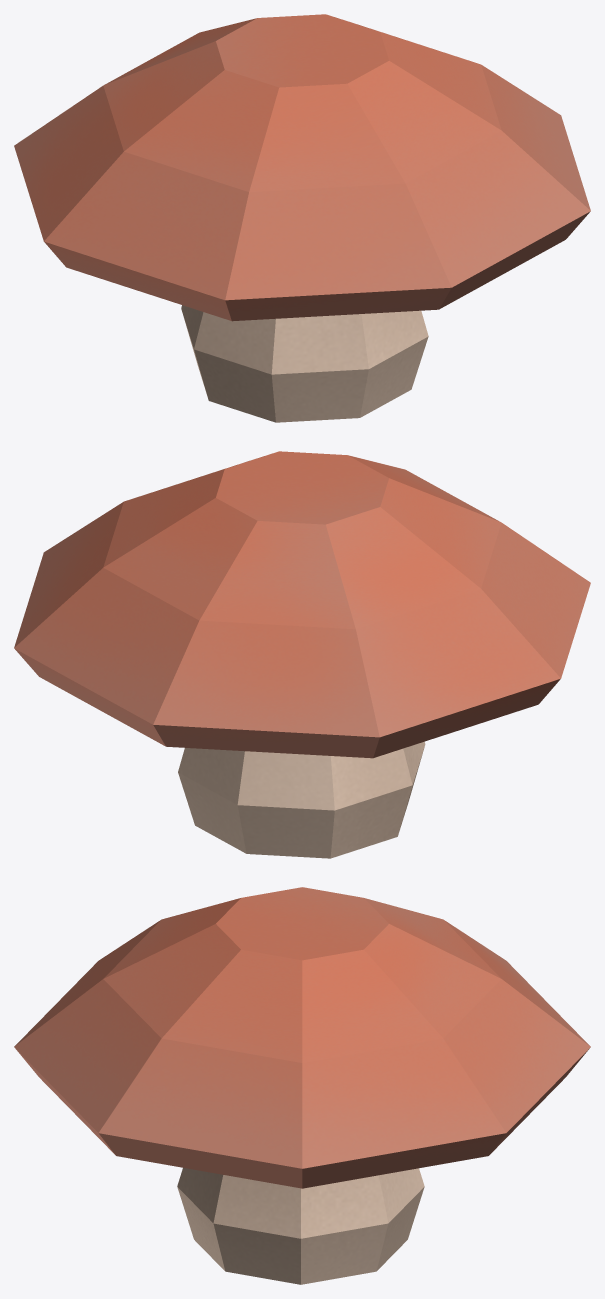
File: mushroom4.obj
The picture shows the model from 3 angles, top to bottom: view 1: azimuth 30°, elevation 25°; view 2: azimuth 150°, elevation 25°; view 3: azimuth 270°, elevation 25°; orthographic projection. The views are drawn at different scales.
Visible parts, largest first — view 1: mushroom4_Circle.007; view 2: mushroom4_Circle.007; view 3: mushroom4_Circle.007.
Part boxes in pixels (<box>): mushroom4_Circle.007: <box>14,14,590,422</box>; mushroom4_Circle.007: <box>14,451,590,858</box>; mushroom4_Circle.007: <box>14,887,590,1284</box>.
Size of the model in its own units: 0.725 by 0.4371 by 0.725.
